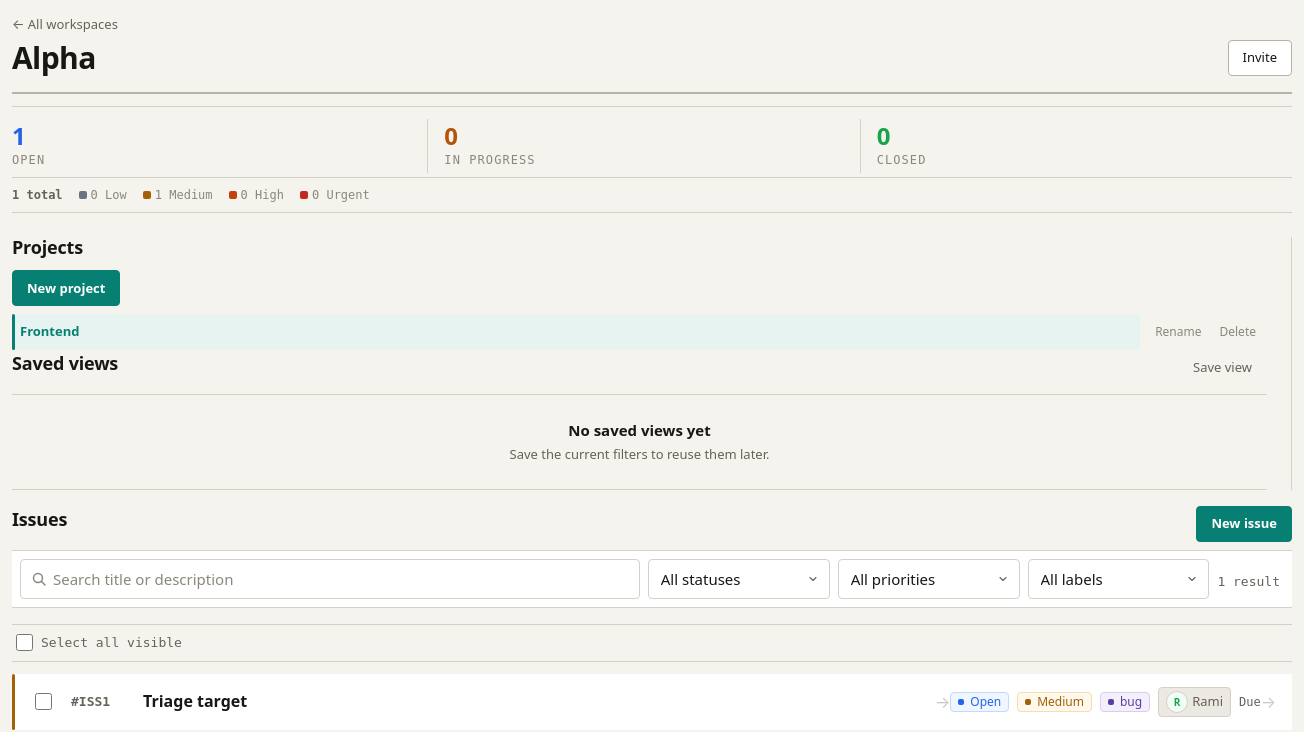
it: WorkspacePage Quick Edit › Escape sends no request and the selection checkbox is unaffected
expect the text "Triage target" is shown: met, box left=143, top=690, right=247, bottom=712
Click the button with aria-label "Change status, currently Open".
click(980, 702)  # box left=950, top=692, right=1009, bottom=712
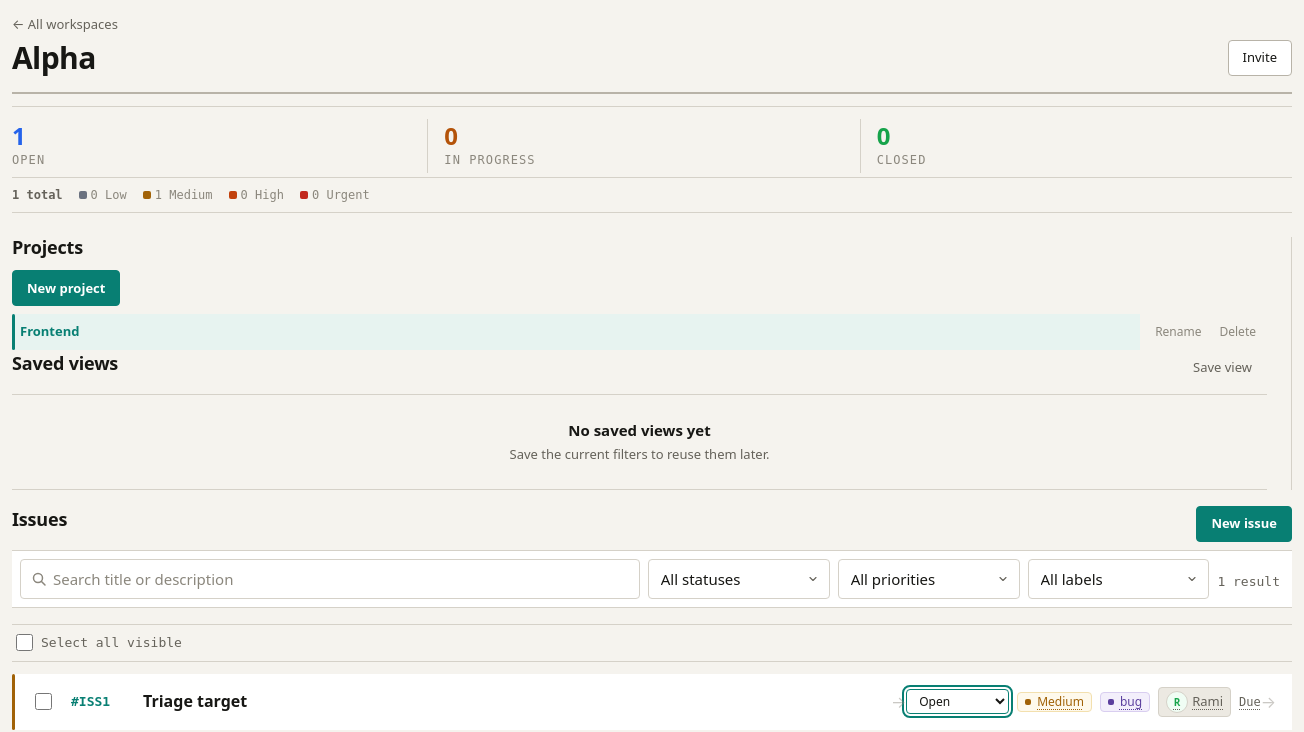
Press Escape in the dropdown named "Change status, currently Open", box left=906, top=689, right=1009, bottom=714
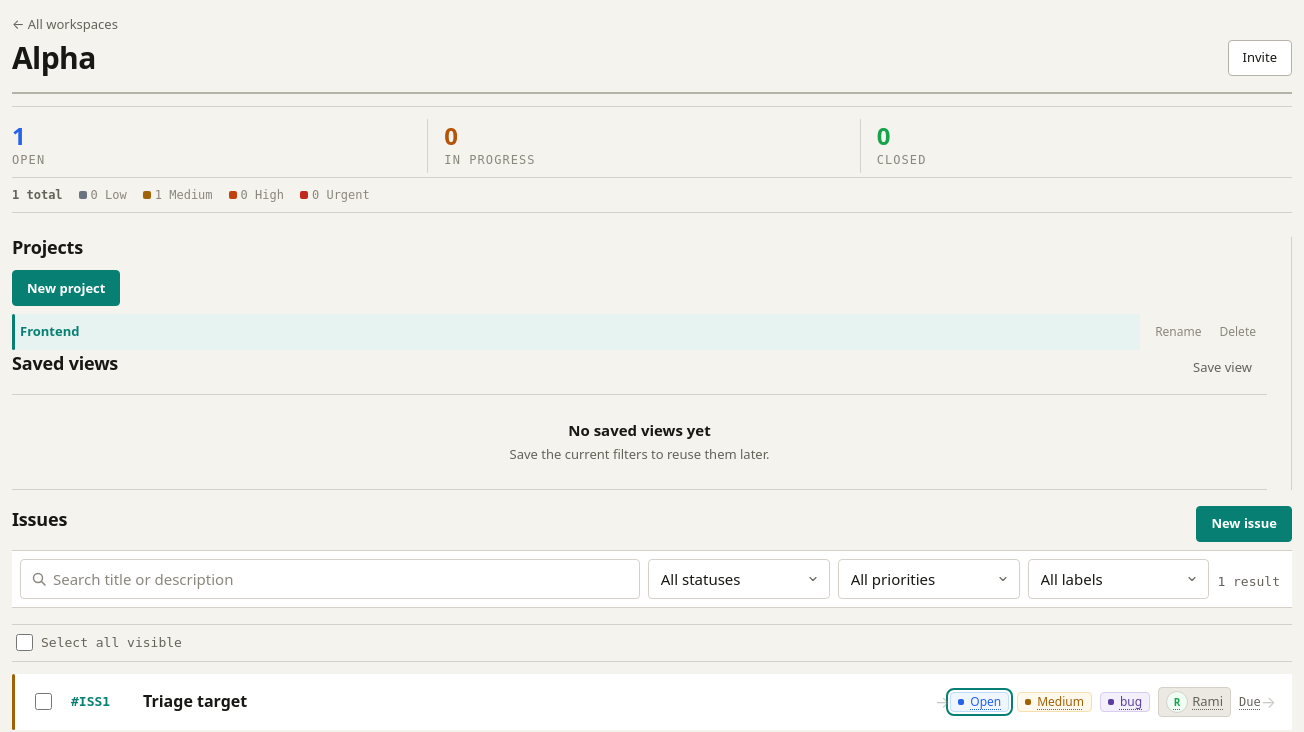
expect the checkbox named "Select Triage target" is not checked: met, box left=35, top=693, right=52, bottom=710
expect the button with aria-label "Change status, currently Open" is shown: met, box left=950, top=692, right=1009, bottom=712
